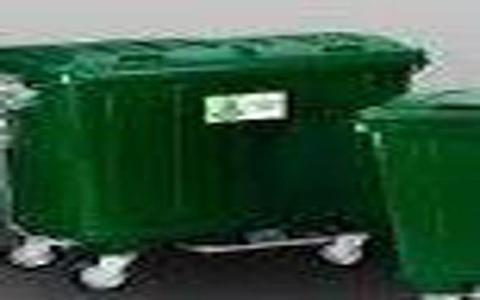Proper garbage: (1, 13, 435, 282)
